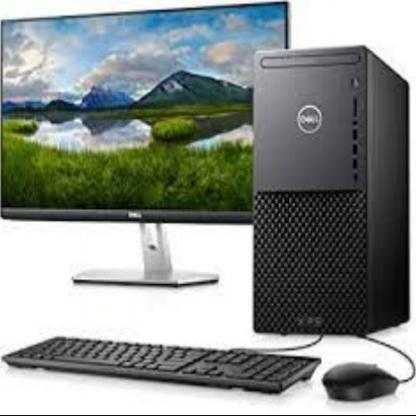DESKTOP: (1, 7, 416, 416)
